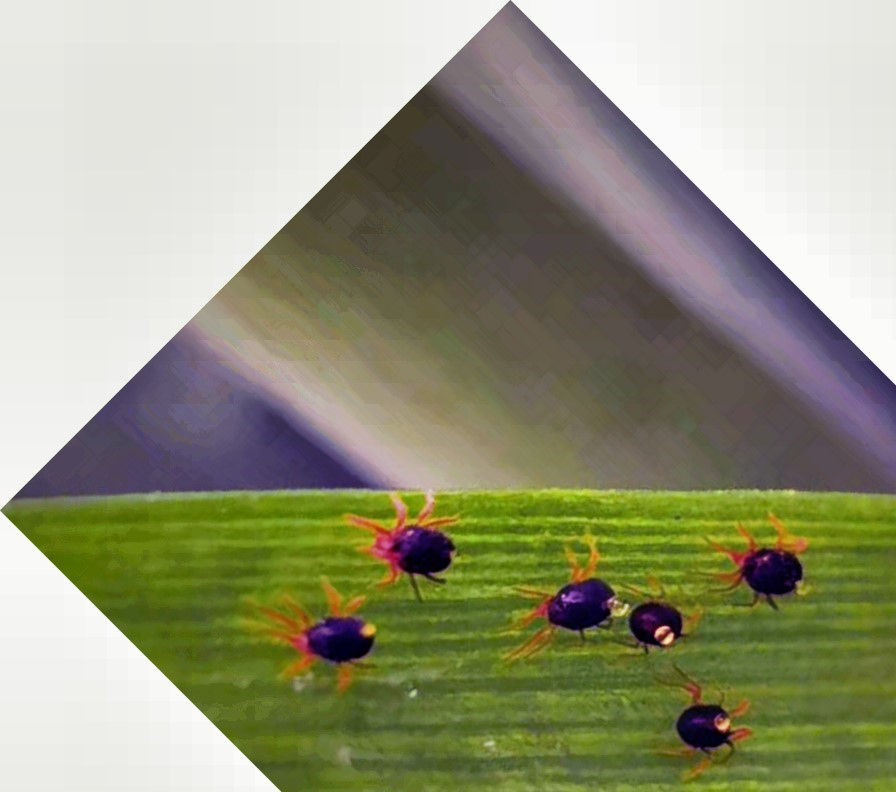Wheat Red Spider: (233, 479, 471, 688)
